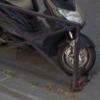Motorcycle: (11, 0, 95, 82)
